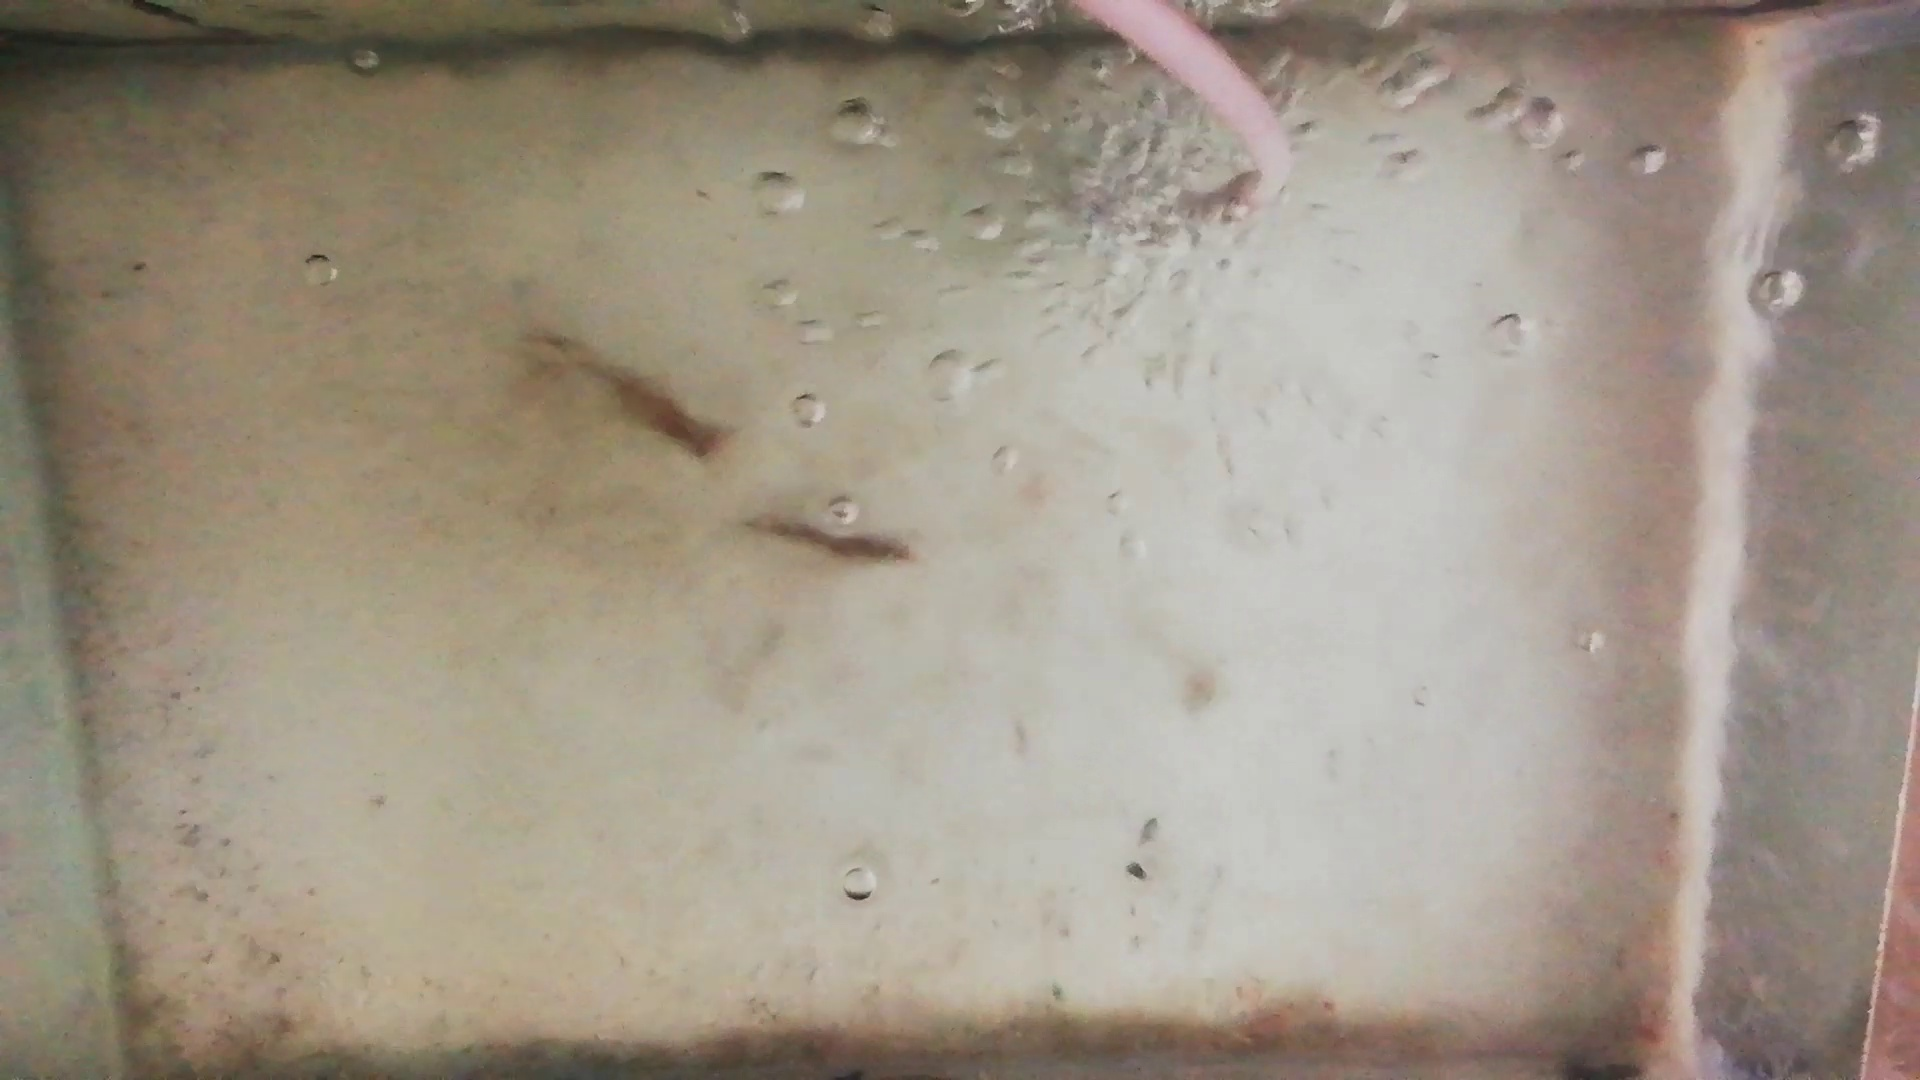fish: (535, 328, 727, 465), (744, 516, 914, 566)
